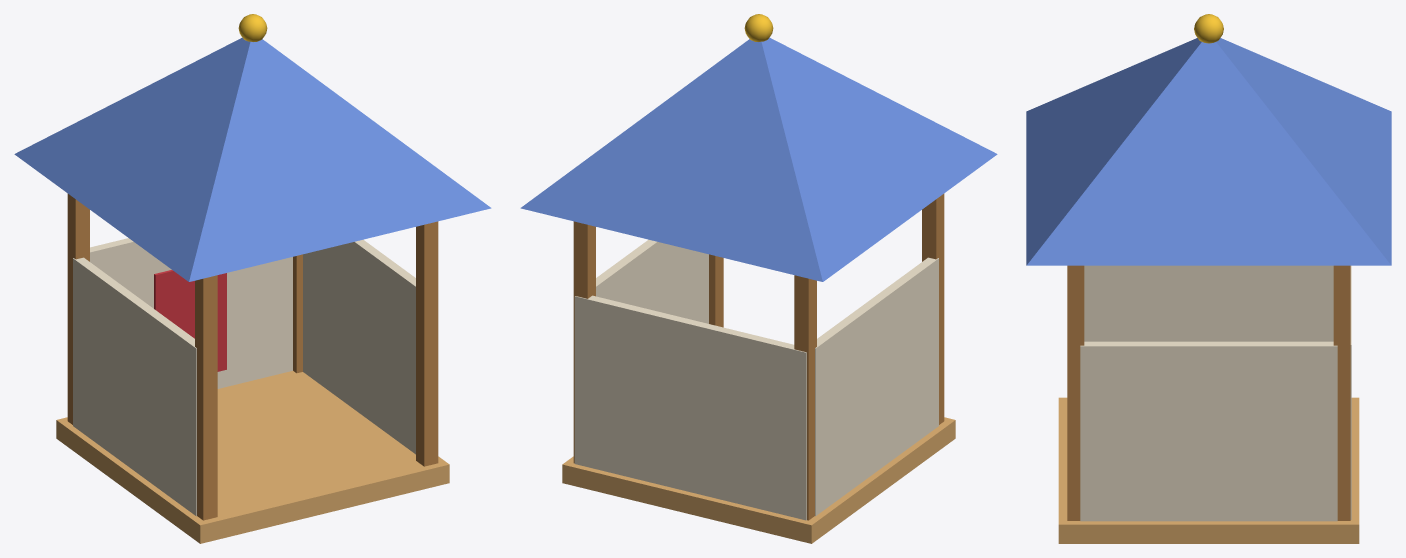
The model's file is play_hut.glb.
The picture shows the model from 3 angles, left to right: view 1: azimuth 30°, elevation 25°; view 2: azimuth 150°, elevation 25°; view 3: azimuth 270°, elevation 25°; orthographic projection. The views are drawn at different scales.
Parts seen in each view (by area): view 1: root; view 2: root; view 3: root.
Part boxes in pixels (left/top/right/bottom): root: left=14, top=14, right=491, bottom=543; root: left=520, top=14, right=997, bottom=543; root: left=1026, top=14, right=1391, bottom=543.
Size of the model in its own units: 1.7 by 2.39 by 1.7.
